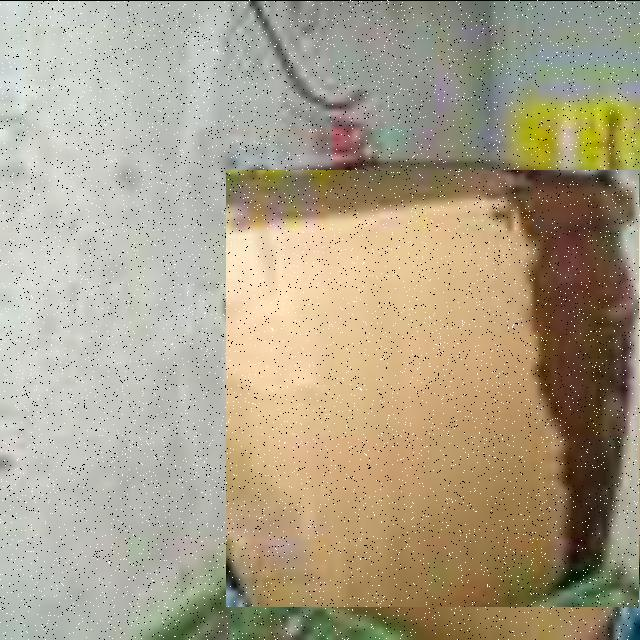defect: (226, 169, 639, 606)
